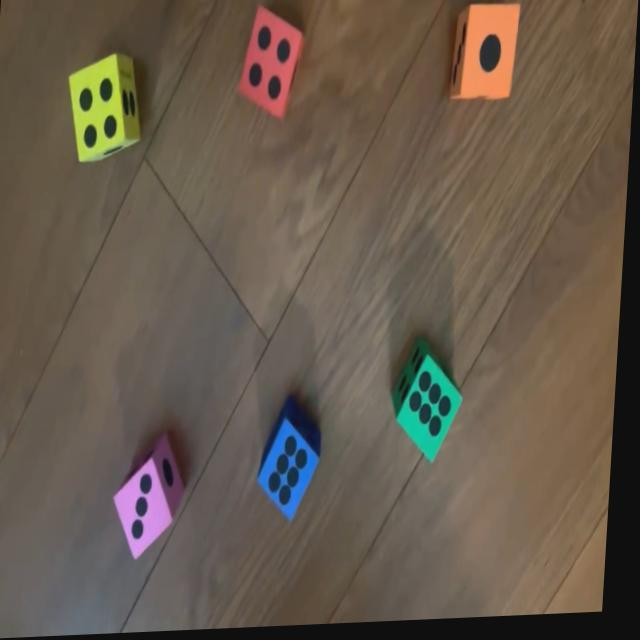blue_block: (261, 399, 326, 525)
red_block: (237, 8, 305, 126)
